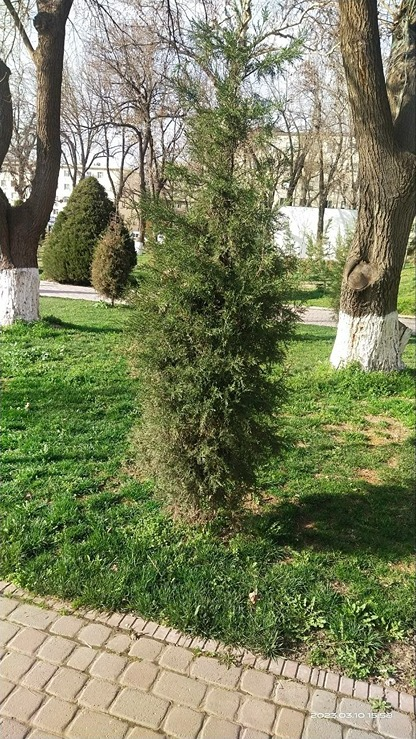tree: (130, 115, 333, 526), (331, 3, 416, 378), (0, 0, 69, 329), (51, 172, 121, 288)
